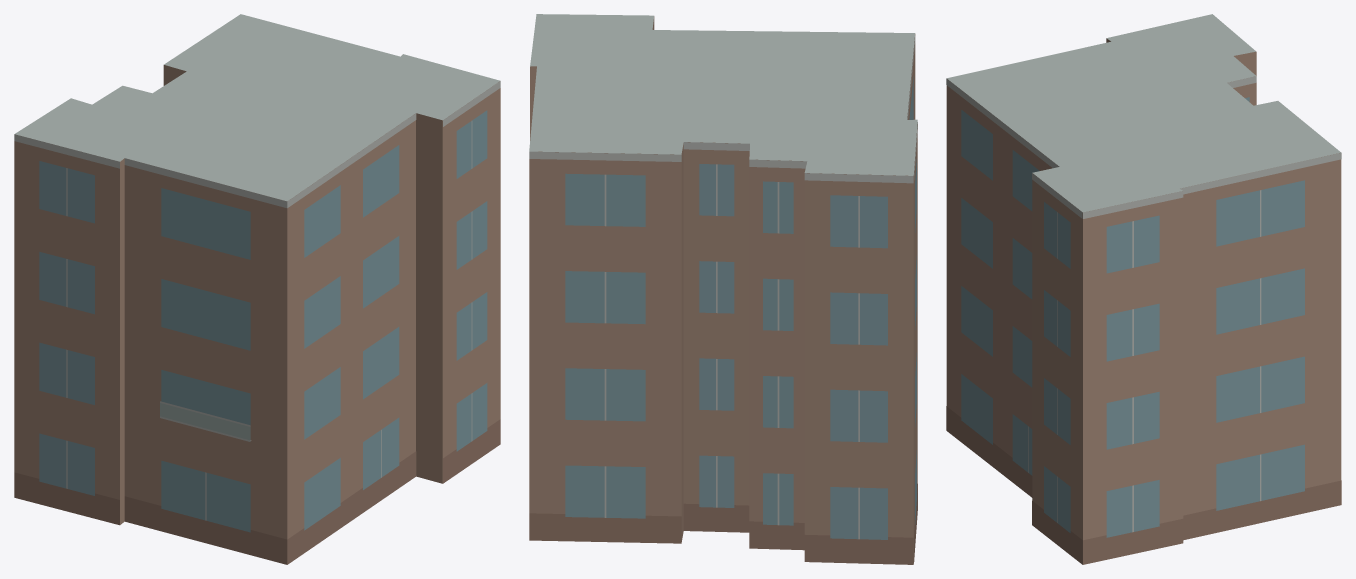
Rendered from survey-upis-32658710.glb.
3 views of the same model, side by side, from view 1: azimuth 30°, elevation 25°; view 2: azimuth 150°, elevation 25°; view 3: azimuth 270°, elevation 25° (orthographic). The views are drawn at different scales.
Visible parts, largest first — view 1: survey-upis-32658710.tmp; view 2: survey-upis-32658710.tmp; view 3: survey-upis-32658710.tmp.
Boxes of the visible parts, left/top/right/bottom form: survey-upis-32658710.tmp: left=14, top=14, right=500, bottom=564; survey-upis-32658710.tmp: left=529, top=14, right=917, bottom=564; survey-upis-32658710.tmp: left=946, top=14, right=1341, bottom=564.
Bounding box in the file's own units: 15.47 × 12.8 × 13.01.
